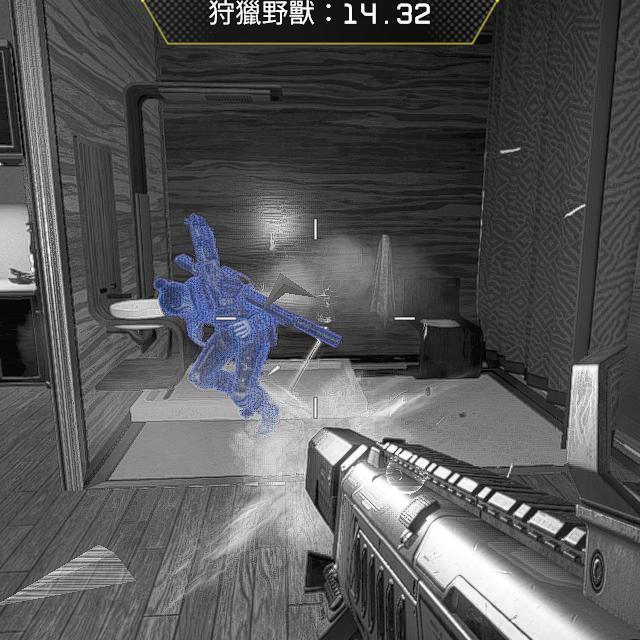avatar: (154, 251, 282, 438)
